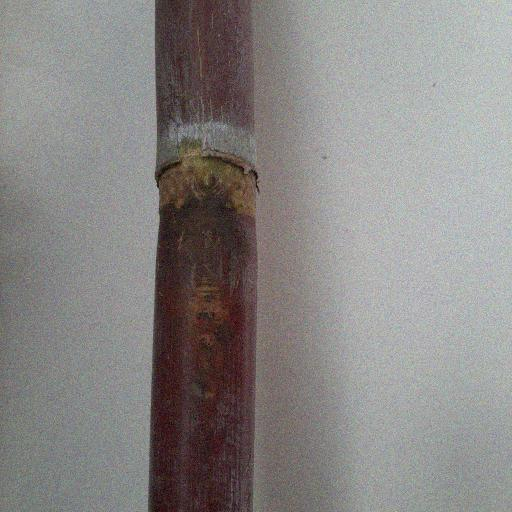Bud: (193, 163, 220, 195)
